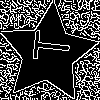T: (23, 28, 71, 64)
